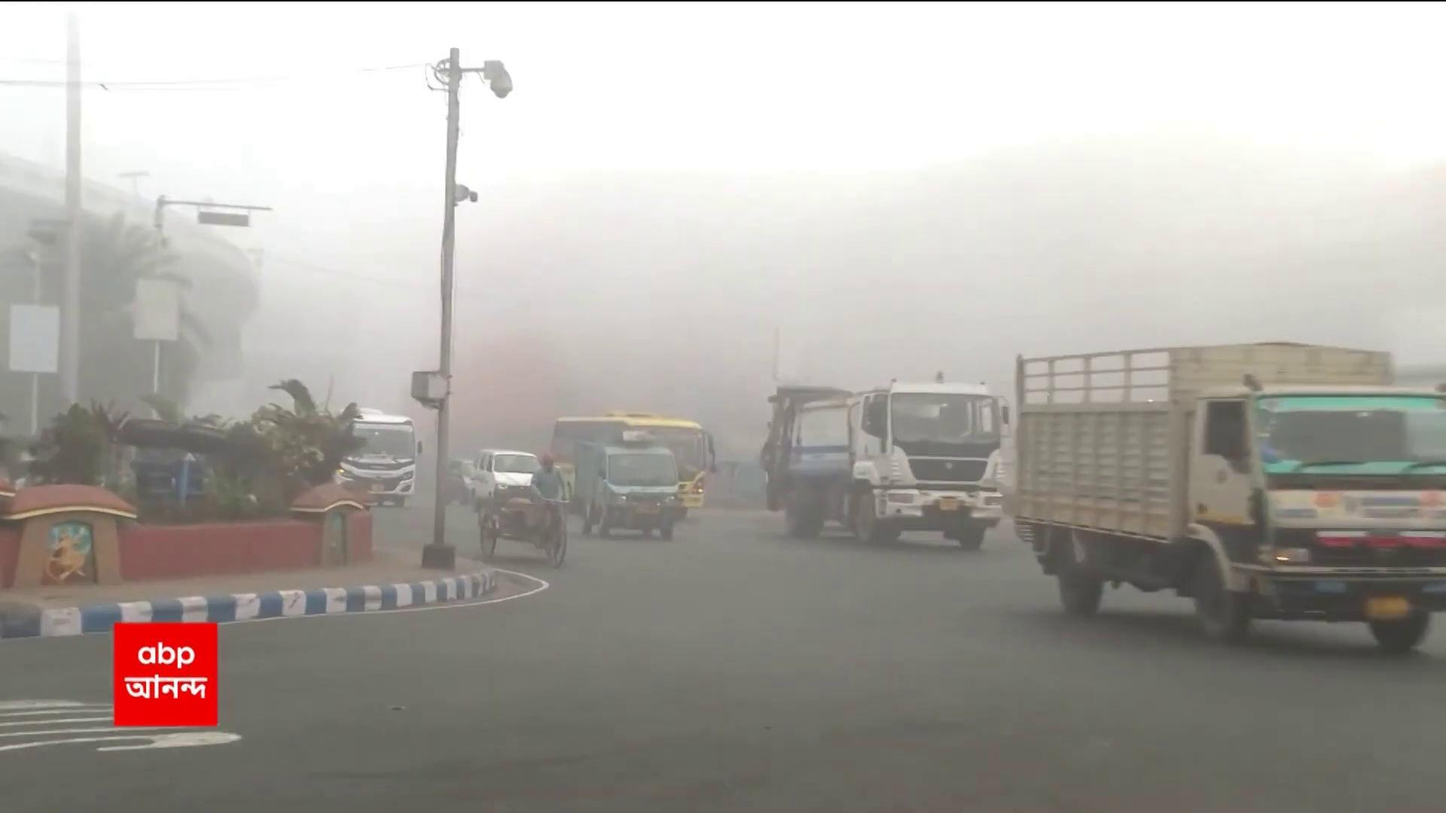Bus: (548, 405, 709, 513)
Truck: (999, 337, 1446, 654), (776, 379, 1013, 561), (569, 429, 691, 536)
